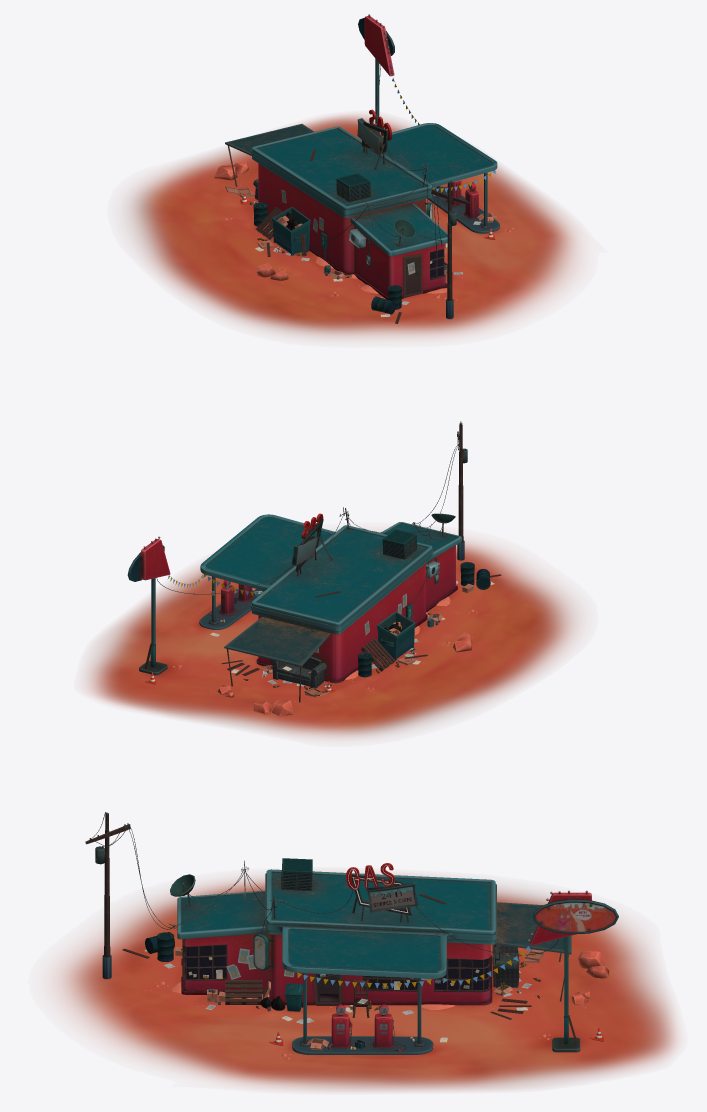
The picture shows the model from 3 angles, top to bottom: view 1: azimuth 30°, elevation 25°; view 2: azimuth 150°, elevation 25°; view 3: azimuth 270°, elevation 25°; orthographic projection. The views are drawn at different scales.
Parts seen in each view (by area): view 1: Plane, Station roof, Station_1, Banner_1, stones.013, Container, Station_2, Station_3, Energy, barrel.001, Banner_2, Cooler (+3 smaller); view 2: Plane, Station roof, Station_1, Station_3, Banner_1, stones.013, Container, couch, Station_2, Wooden details.009, barrel.001, Cooler (+4 smaller); view 3: Plane, Station roof, Station_1, Banner_1, Station_2, Station_3, Banner_2, Gas, Wooden details.009, Energy, Widnows frame, stones.013 (+12 smaller).
Part boxes in pixels (left/top/right/bottom): Plane: left=127, top=114, right=578, bottom=337; Station roof: left=251, top=123, right=497, bottom=256; Station_1: left=258, top=163, right=447, bottom=299; Banner_1: left=358, top=14, right=394, bottom=133; stones.013: left=214, top=161, right=516, bottom=300; Container: left=272, top=207, right=310, bottom=255; Station_2: left=427, top=172, right=499, bottom=233; Station_3: left=225, top=124, right=314, bottom=186; Energy: left=431, top=180, right=470, bottom=318; barrel.001: left=253, top=202, right=401, bottom=314; Banner_2: left=357, top=118, right=388, bottom=169; Cooler: left=336, top=173, right=370, bottom=201; Plane: left=86, top=539, right=577, bottom=737; Station roof: left=200, top=514, right=461, bottom=634; Station_1: left=256, top=545, right=457, bottom=683; Station_3: left=224, top=616, right=330, bottom=702; Banner_1: left=127, top=536, right=170, bottom=675; stones.013: left=171, top=596, right=476, bottom=715; Container: left=377, top=611, right=415, bottom=660; couch: left=270, top=656, right=326, bottom=688; Station_2: left=199, top=576, right=263, bottom=629; Wooden details.009: left=144, top=574, right=501, bottom=675; barrel.001: left=357, top=562, right=490, bottom=677; Cooler: left=382, top=529, right=416, bottom=559; Plane: left=56, top=877, right=677, bottom=1090; Station roof: left=177, top=869, right=496, bottom=978; Station_1: left=181, top=932, right=492, bottom=1005; Banner_1: left=528, top=890, right=618, bottom=1052; Station_2: left=292, top=973, right=433, bottom=1054; Station_3: left=494, top=902, right=571, bottom=1001; Banner_2: left=351, top=874, right=418, bottom=922; Gas: left=330, top=1004, right=393, bottom=1047; Wooden details.009: left=122, top=893, right=577, bottom=1045; Energy: left=85, top=812, right=174, bottom=978; Widnows frame: left=184, top=944, right=489, bottom=991; stones.013: left=145, top=951, right=611, bottom=1059.
Size of the model in its own units: 18.49 by 7.22 by 22.6.
39 materials, 37 textured.
